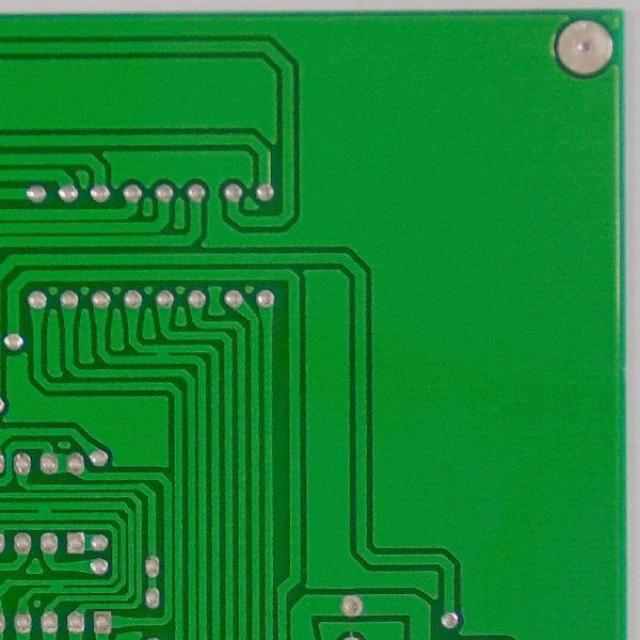short: (148, 341, 177, 365), (41, 575, 70, 597), (30, 500, 57, 521)
